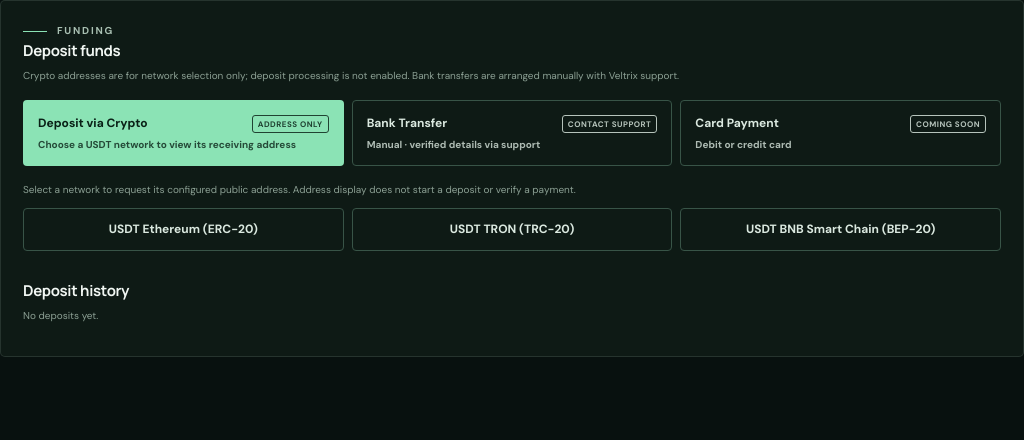
Scenario: Deposit panel › keeps card payments visibly disabled and cannot start a payment
The image size is (1024, 440).
Click the tab "Card Payment Coming soon Debit or credit card" at {"x": 737, "y": 123}, box left=680, top=100, right=1001, bottom=166
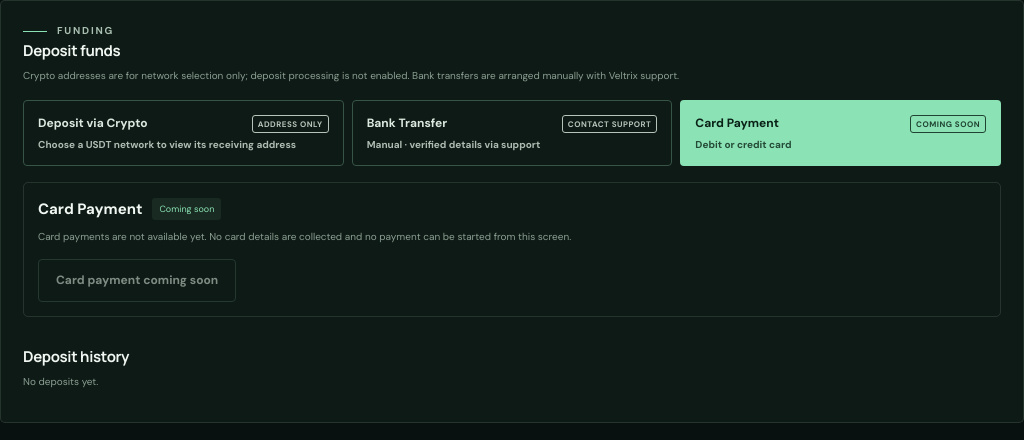
Check: the text "Card payments are not available yet" is shown, box left=38, top=230, right=571, bottom=243
Check: the button "Card payment coming soon" is disabled, box left=38, top=259, right=236, bottom=302
